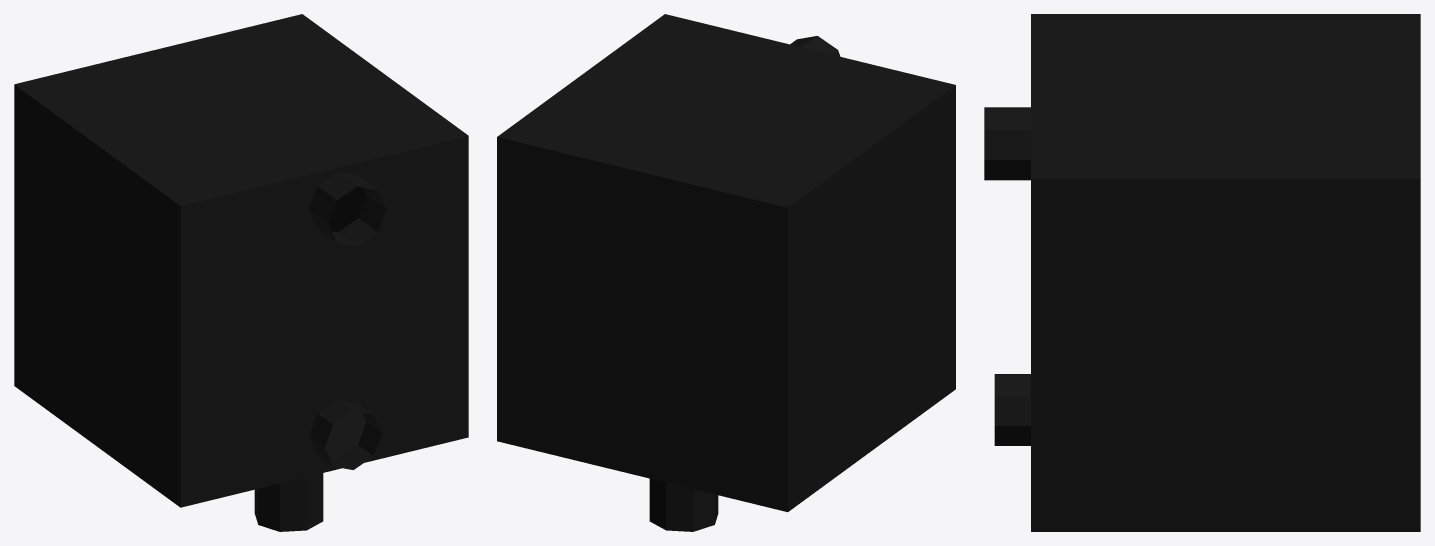
Rendered from Pina.fbx.
The picture shows the model from 3 angles, left to right: view 1: azimuth 30°, elevation 25°; view 2: azimuth 150°, elevation 25°; view 3: azimuth 270°, elevation 25°; orthographic projection. The views are drawn at different scales.
Visible parts, largest first — view 1: pCube1; view 2: pCube1; view 3: pCube1.
Part boxes in pixels (box(x1,y1,x2,y2)): pCube1: box(14, 14, 468, 531); pCube1: box(497, 14, 955, 531); pCube1: box(984, 14, 1420, 531).
Size of the model in its own units: 35.89 by 42.82 by 40.17.
